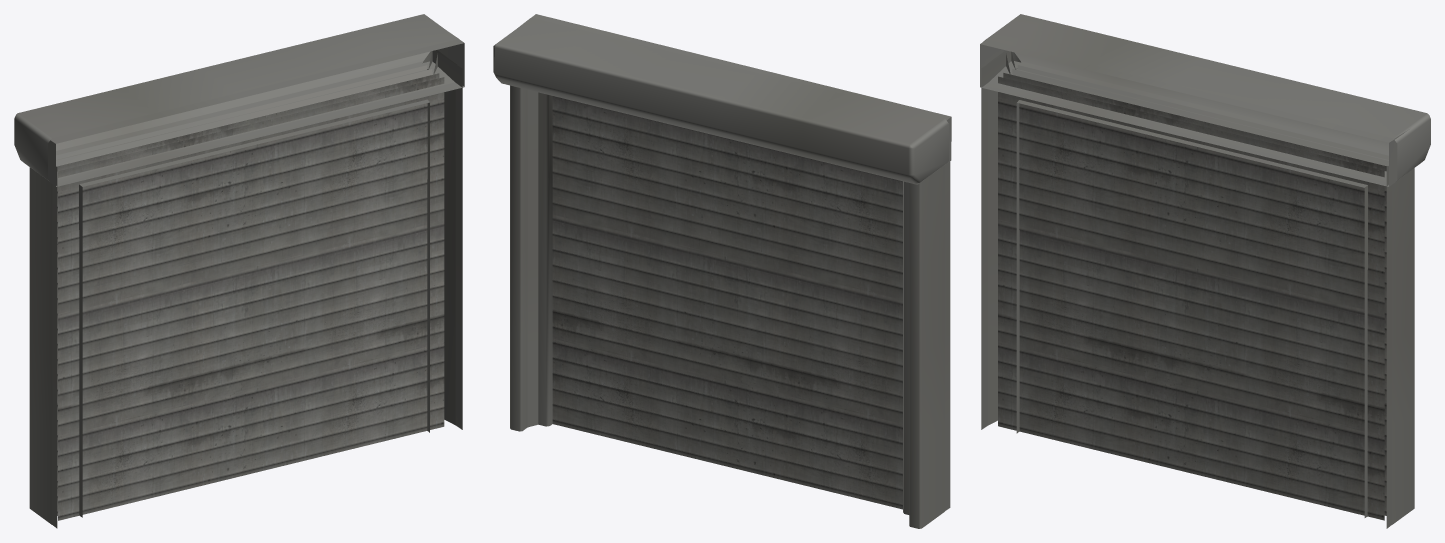
File: ShopRoll (1).fbx
3 renders of one model, left to right at view 1: azimuth 30°, elevation 25°; view 2: azimuth 150°, elevation 25°; view 3: azimuth 330°, elevation 25°, orthographic.
Visible parts, largest first — view 1: _000_static_ShopRoll, ShopRoll__1_, _000_static_ShopRoll_1; view 2: ShopRoll__1_, _000_static_ShopRoll_1, _000_static_ShopRoll; view 3: _000_static_ShopRoll, ShopRoll__1_, _000_static_ShopRoll_1.
Part boxes in pixels (x1,y1,x2,y2): _000_static_ShopRoll: (38, 39, 464, 528); ShopRoll__1_: (14, 14, 457, 524); _000_static_ShopRoll_1: (51, 32, 459, 425); ShopRoll__1_: (493, 18, 949, 528); _000_static_ShopRoll_1: (521, 18, 902, 508); _000_static_ShopRoll: (531, 14, 951, 510); _000_static_ShopRoll: (980, 40, 1409, 528); ShopRoll__1_: (983, 14, 1430, 524); _000_static_ShopRoll_1: (985, 39, 1409, 515).
Bounding box in the file's own units: 323 × 288 × 55.68.
